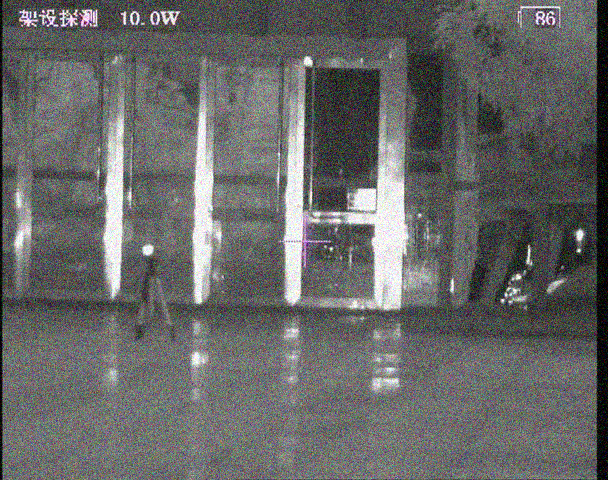my: (141, 243, 154, 257)
